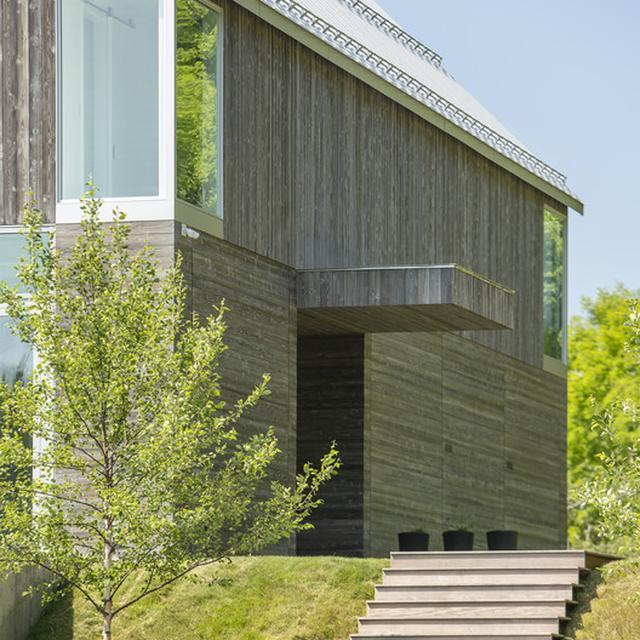building: (0, 0, 569, 555)
